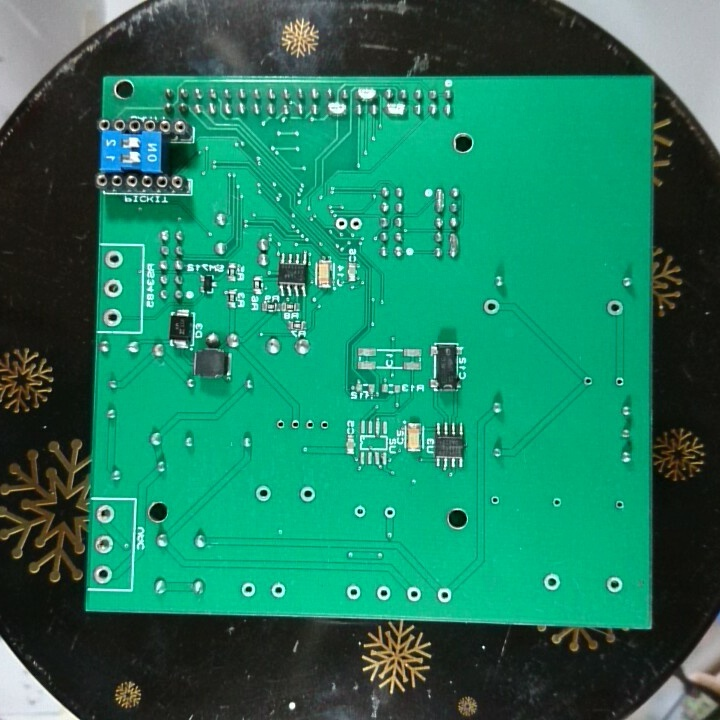F: (100, 305, 124, 330), (102, 275, 125, 300), (92, 533, 115, 558), (102, 248, 126, 270), (542, 570, 563, 594), (93, 563, 115, 585), (297, 483, 318, 506), (251, 482, 274, 503), (94, 503, 115, 524), (604, 298, 625, 319), (373, 583, 394, 603), (402, 583, 423, 603), (482, 297, 502, 318), (605, 573, 624, 595), (239, 580, 259, 600), (434, 586, 454, 606), (268, 580, 287, 599), (343, 582, 362, 601), (380, 503, 398, 521), (348, 213, 364, 233), (352, 501, 368, 520), (548, 494, 564, 512), (333, 215, 349, 232), (611, 496, 627, 513), (272, 417, 288, 433), (303, 417, 317, 435), (317, 417, 331, 434), (488, 493, 502, 509), (582, 374, 596, 390), (288, 418, 303, 432), (612, 375, 625, 389)
P: (382, 101, 408, 119), (354, 86, 378, 103), (433, 186, 447, 215), (447, 230, 460, 260), (325, 100, 348, 116)
